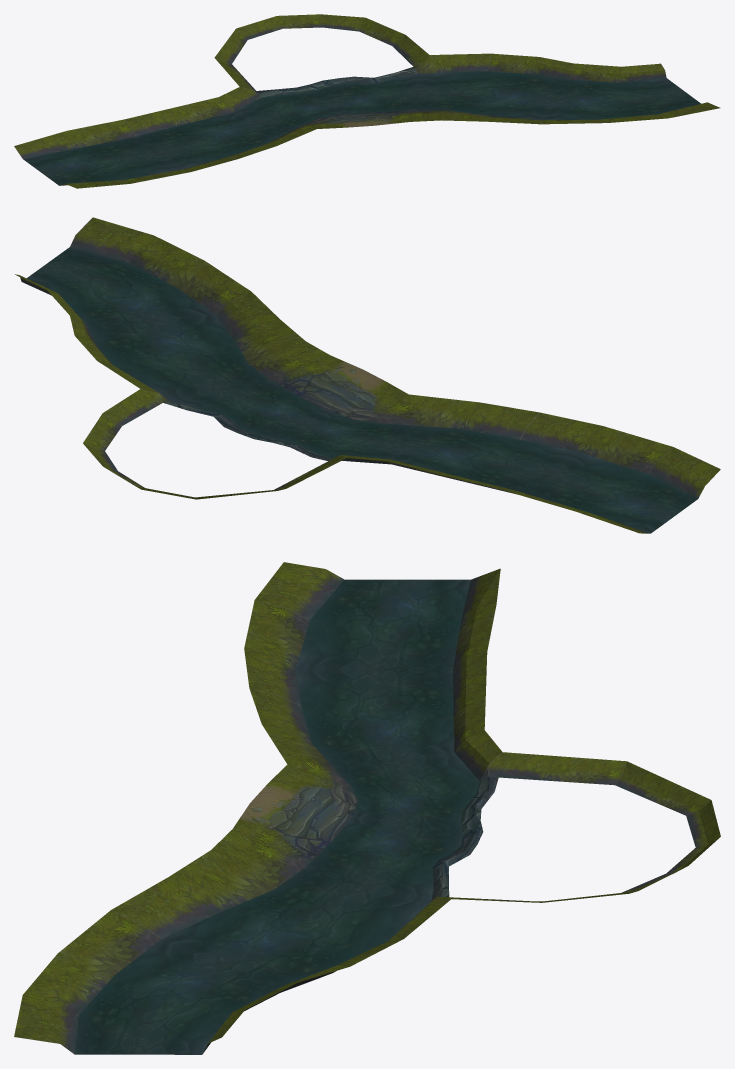
Rendered from FB0_dixing02.FBX.
The picture shows the model from 3 angles, top to bottom: view 1: azimuth 30°, elevation 25°; view 2: azimuth 150°, elevation 25°; view 3: azimuth 270°, elevation 25°; orthographic projection. The views are drawn at different scales.
Parts seen in each view (by area): view 1: FB0_dixing02_001; view 2: FB0_dixing02_001; view 3: FB0_dixing02_001.
Boxes of the visible parts, left/top/right/bottom form: FB0_dixing02_001: left=14, top=14, right=720, bottom=188; FB0_dixing02_001: left=15, top=217, right=720, bottom=533; FB0_dixing02_001: left=14, top=562, right=720, bottom=1054.
Bounding box in the file's own units: 999974 × 17160 × 628467.
